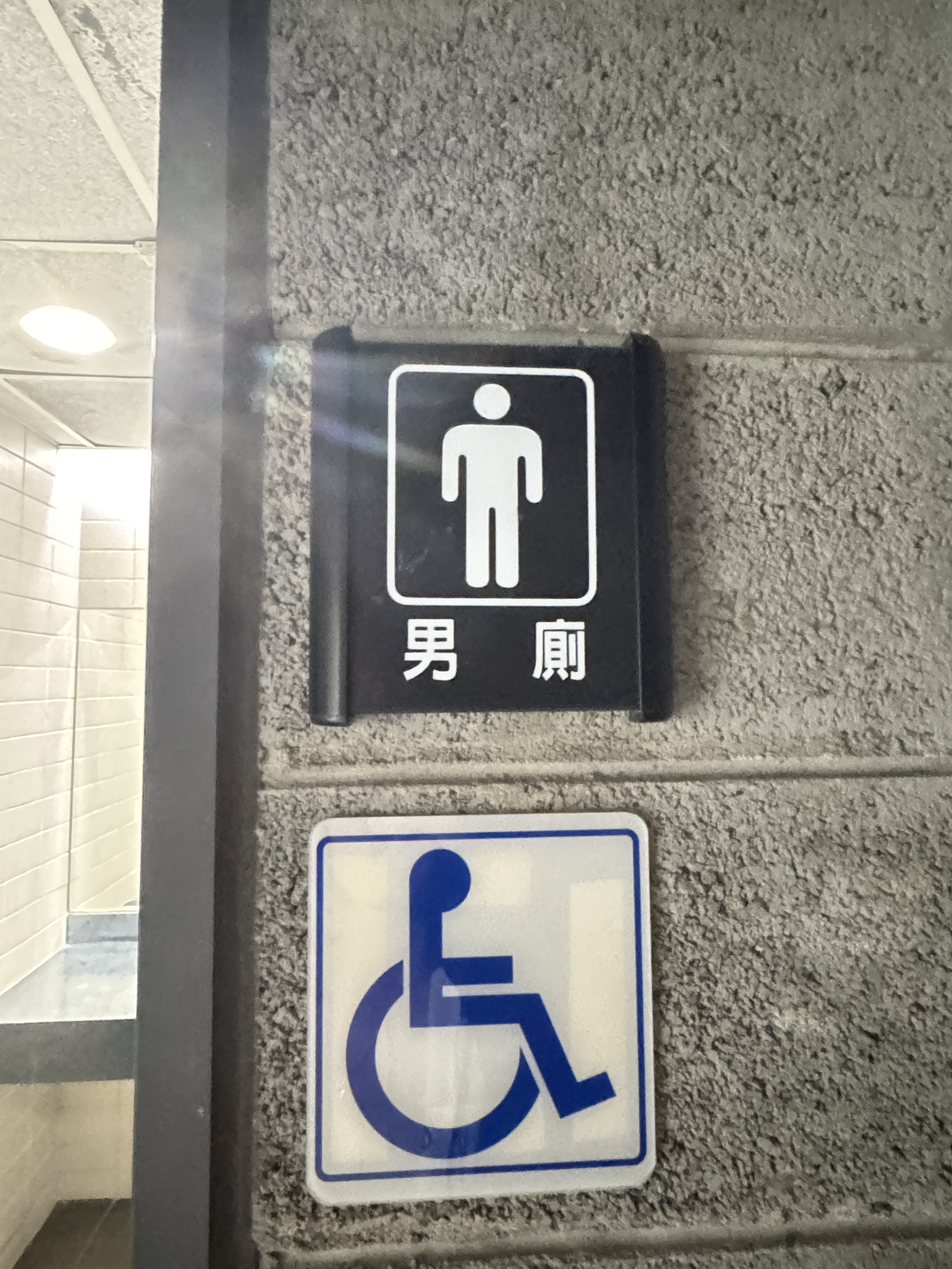toilet_sign: (283, 304, 714, 767), (303, 325, 680, 725)
